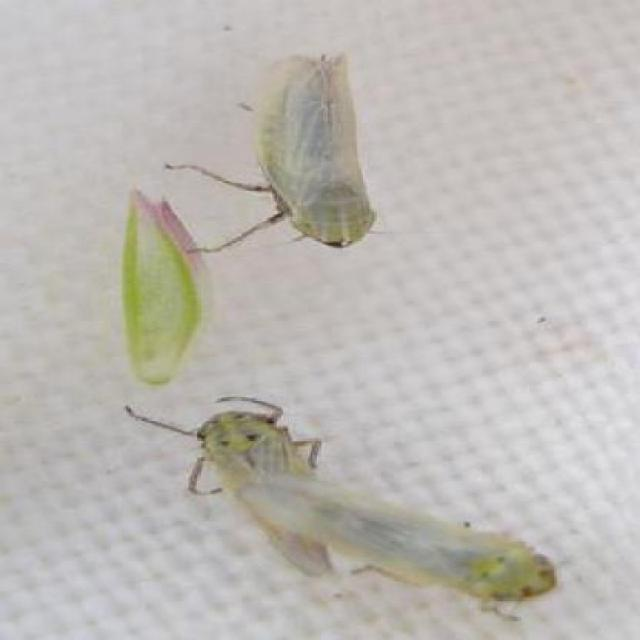brown-planthopper: (120, 389, 560, 608), (163, 48, 375, 260)
